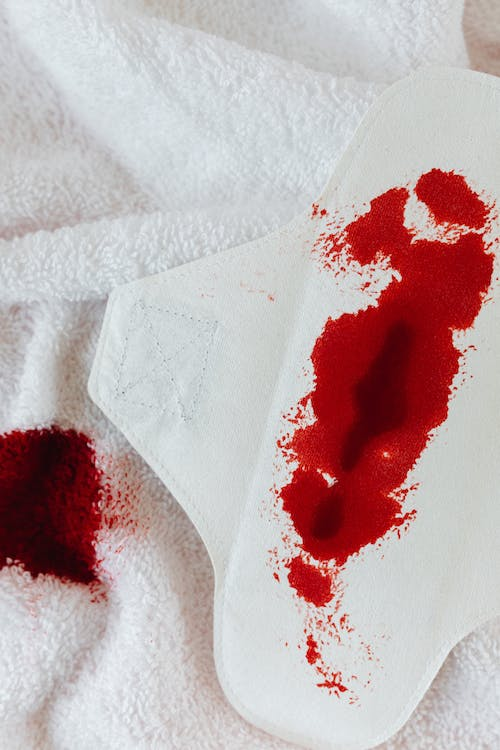blood: (254, 163, 500, 712), (0, 419, 160, 609)
